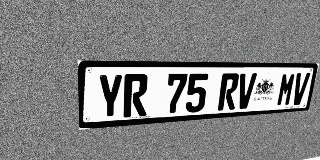5: (185, 73, 208, 113)
7: (164, 74, 188, 114)
M: (276, 73, 296, 106)
R: (123, 74, 148, 117), (217, 73, 240, 111)
V: (235, 73, 257, 109), (290, 73, 310, 105)
Y: (97, 74, 123, 119)
